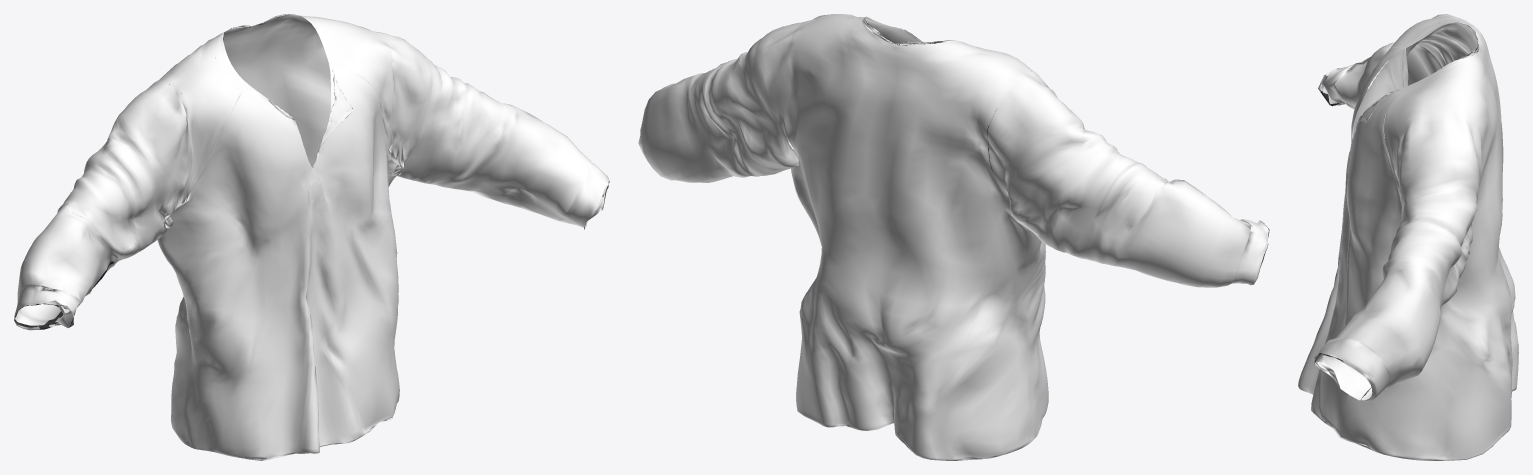
File: LongSleeve_XL.glb
3 views of the same model, side by side, from view 1: azimuth 30°, elevation 25°; view 2: azimuth 150°, elevation 25°; view 3: azimuth 270°, elevation 25° (orthographic). The views are drawn at different scales.
Parts seen in each view (by area): view 1: Newport_Shirt_10879.001; view 2: Newport_Shirt_10879.001; view 3: Newport_Shirt_10879.001.
Boxes of the visible parts, <box> form: Newport_Shirt_10879.001: <box>14,14,609,460</box>; Newport_Shirt_10879.001: <box>638,14,1269,460</box>; Newport_Shirt_10879.001: <box>1298,14,1518,460</box>.
Bounding box in the file's own units: 25.75 × 16.06 × 8.48.
Materials: 1 (1 with a texture image).
